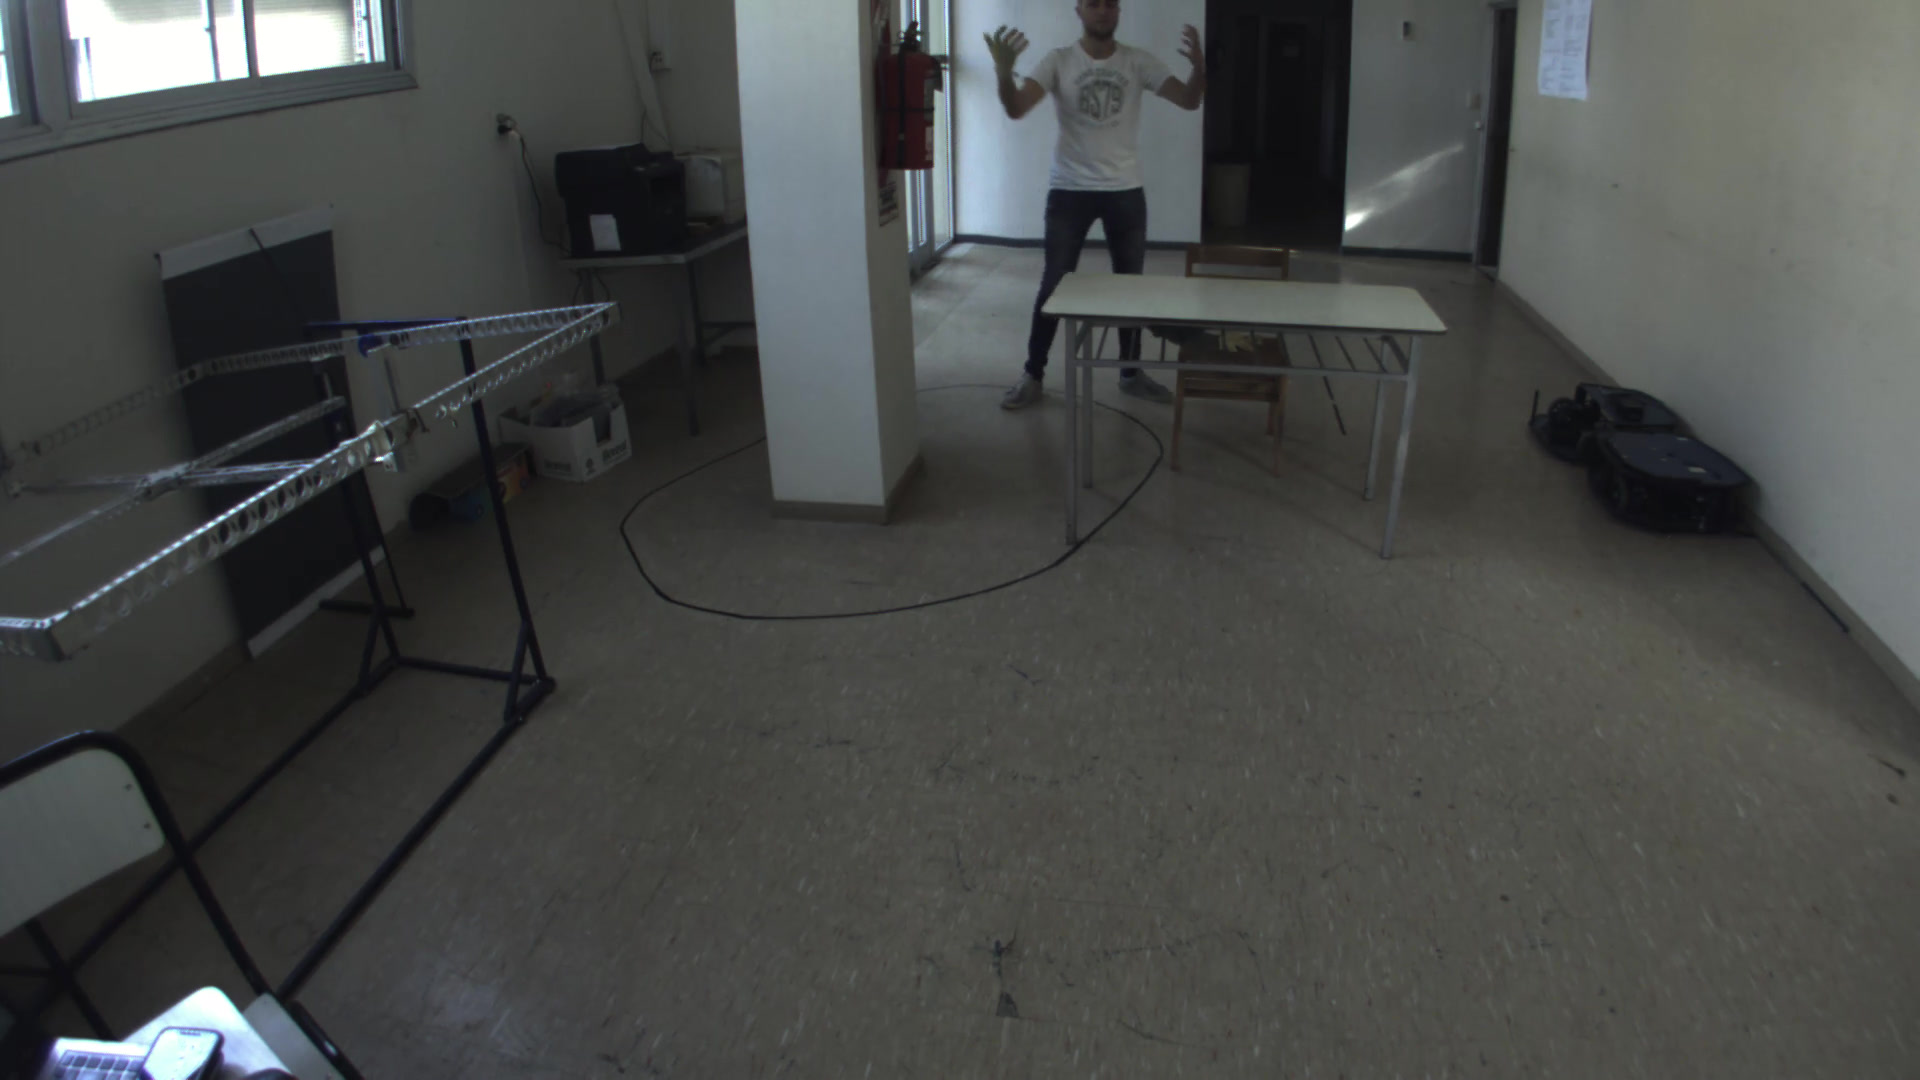hand: (985, 22, 1040, 79), (1174, 20, 1215, 84)
